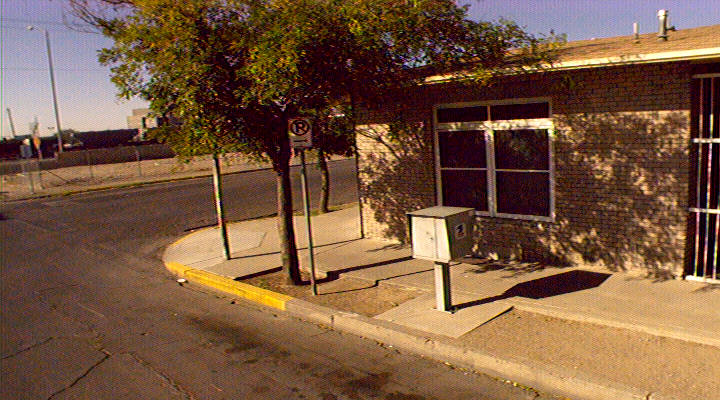Ramp: (147, 223, 268, 279)
